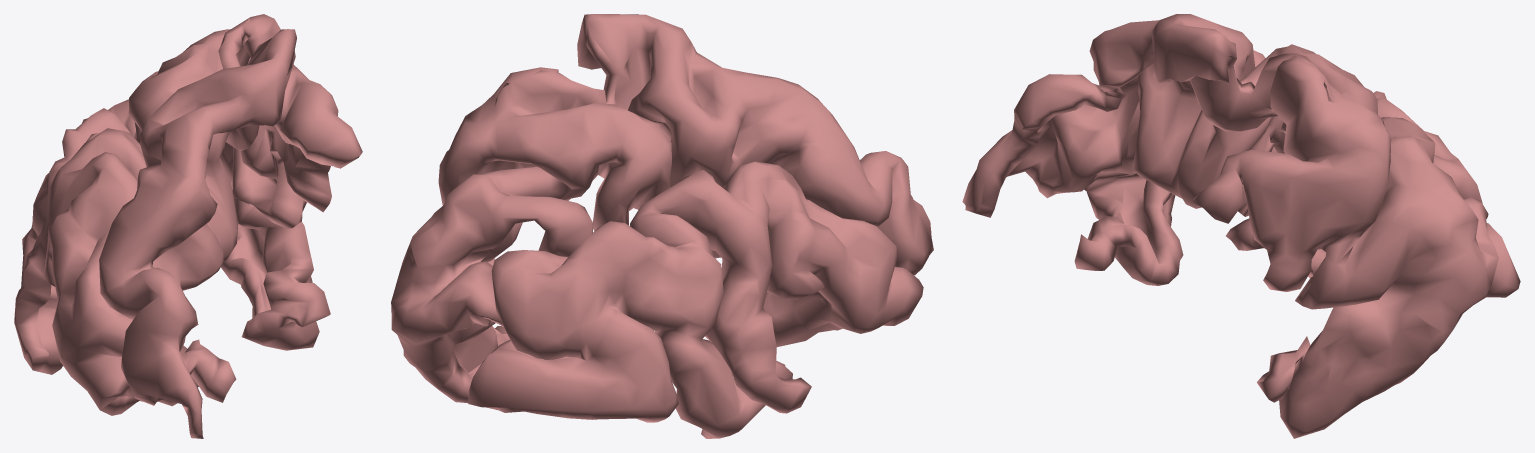
Rendered from Parietal.R.001.fbx.
3 views of the same model, side by side, from view 1: azimuth 30°, elevation 25°; view 2: azimuth 150°, elevation 25°; view 3: azimuth 270°, elevation 25° (orthographic). The views are drawn at different scales.
Visible parts, largest first — view 1: Angular gyrus.r.001; view 2: Angular gyrus.r.001; view 3: Angular gyrus.r.001.
Part boxes in pixels (x1,y1,x2,y2): Angular gyrus.r.001: (14, 14, 362, 438); Angular gyrus.r.001: (391, 14, 933, 438); Angular gyrus.r.001: (962, 14, 1520, 438).
Size of the model in its own units: 6.81 by 9.81 by 7.26.
